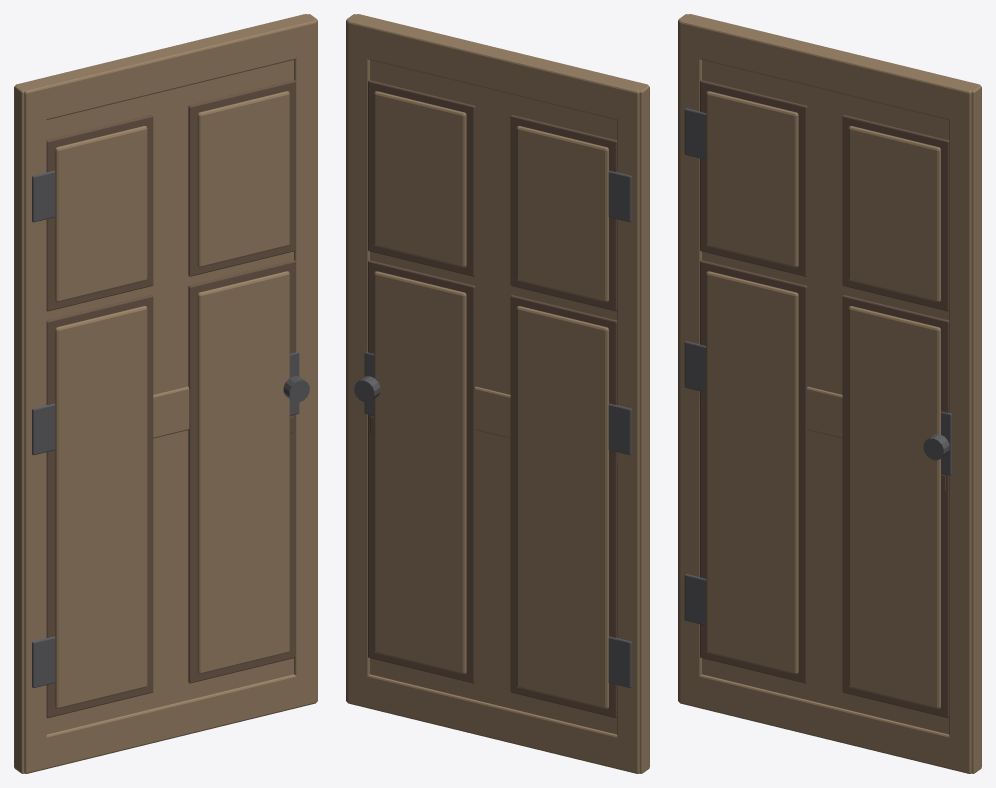
The picture shows the model from 3 angles, left to right: view 1: azimuth 30°, elevation 25°; view 2: azimuth 150°, elevation 25°; view 3: azimuth 330°, elevation 25°; orthographic projection.
Parts seen in each view (by area): view 1: doorLeaf; view 2: doorLeaf; view 3: doorLeaf.
Part boxes in pixels (x1=…): doorLeaf: x1=14, y1=14, x2=317, y2=773; doorLeaf: x1=346, y1=14, x2=649, y2=773; doorLeaf: x1=678, y1=14, x2=981, y2=773.
Bounding box in the file's own units: 1 × 2.2 × 0.175.
